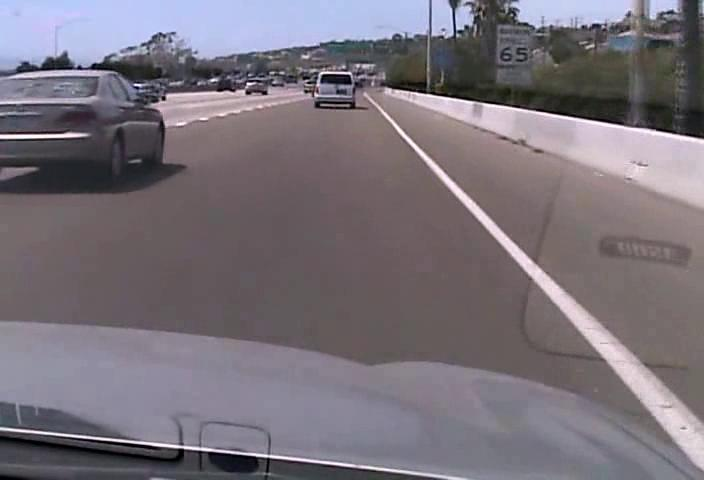speedLimit65: (495, 22, 532, 67)
